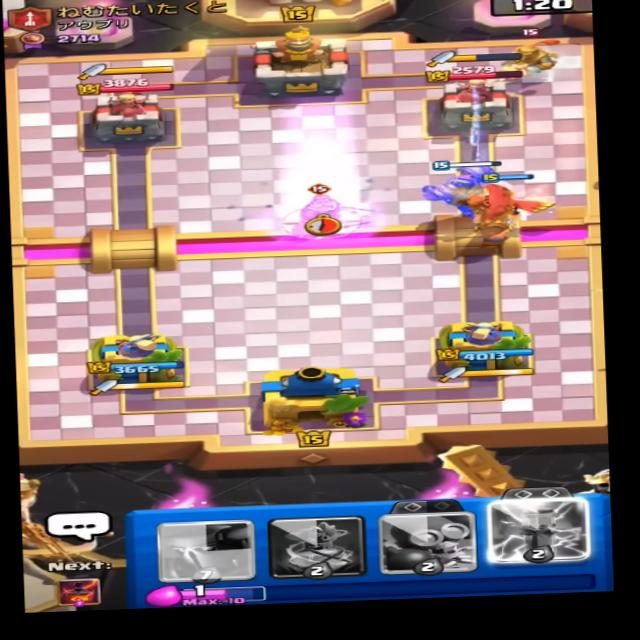evo-knight: (288, 181, 362, 230)
prince: (485, 28, 565, 82)
